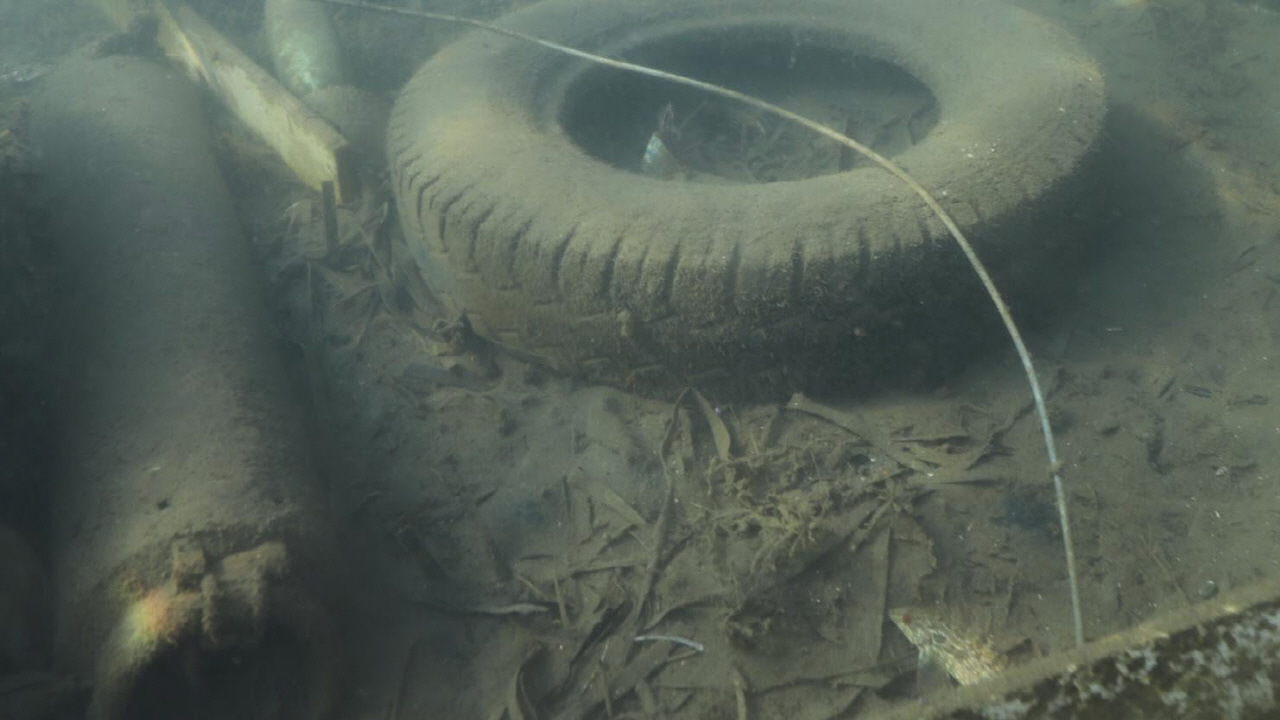eel fish trap: (26, 54, 357, 720)
tire: (384, 0, 1109, 400)
wood: (96, 0, 358, 206)
